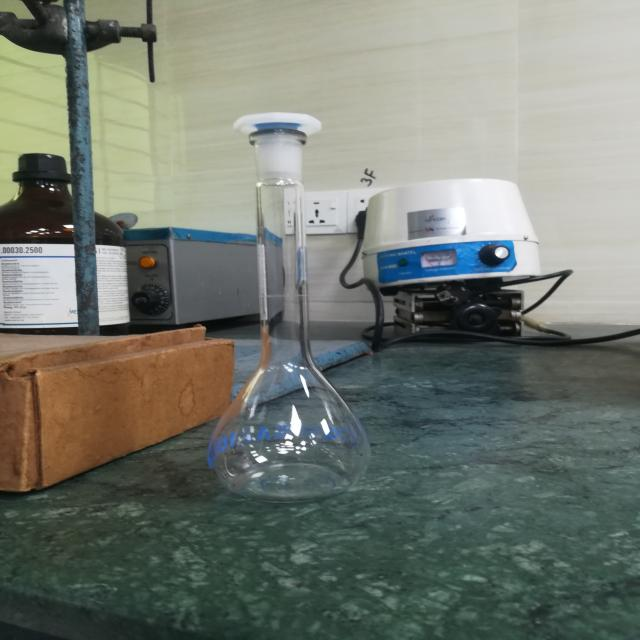Volumetric_Flask: (181, 73, 413, 530)
